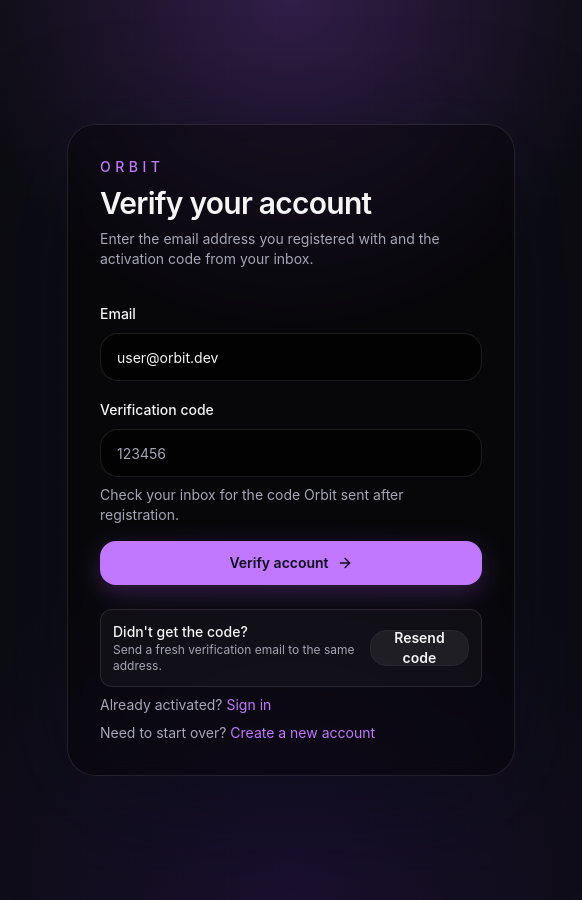
Test: VerifyAccountPage › resends the verification code and shows a success message
Click the button "Resend code".
click(419, 648)  # box x1=370 y1=630 x2=469 y2=666
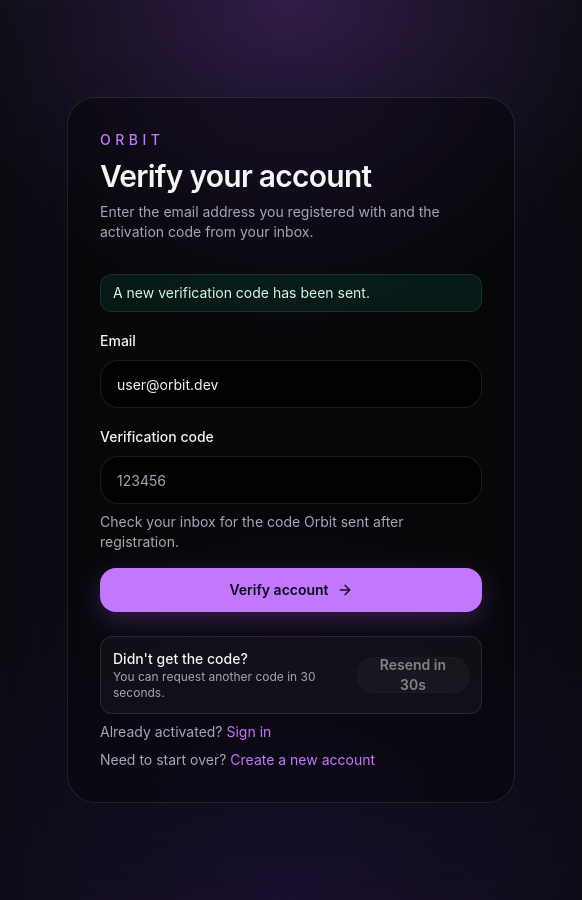
Now the text "A new verification code has been sent." is shown, box x1=100 y1=274 x2=482 y2=312
Now the button "Resend in 30s" is disabled, box x1=357 y1=657 x2=469 y2=693
